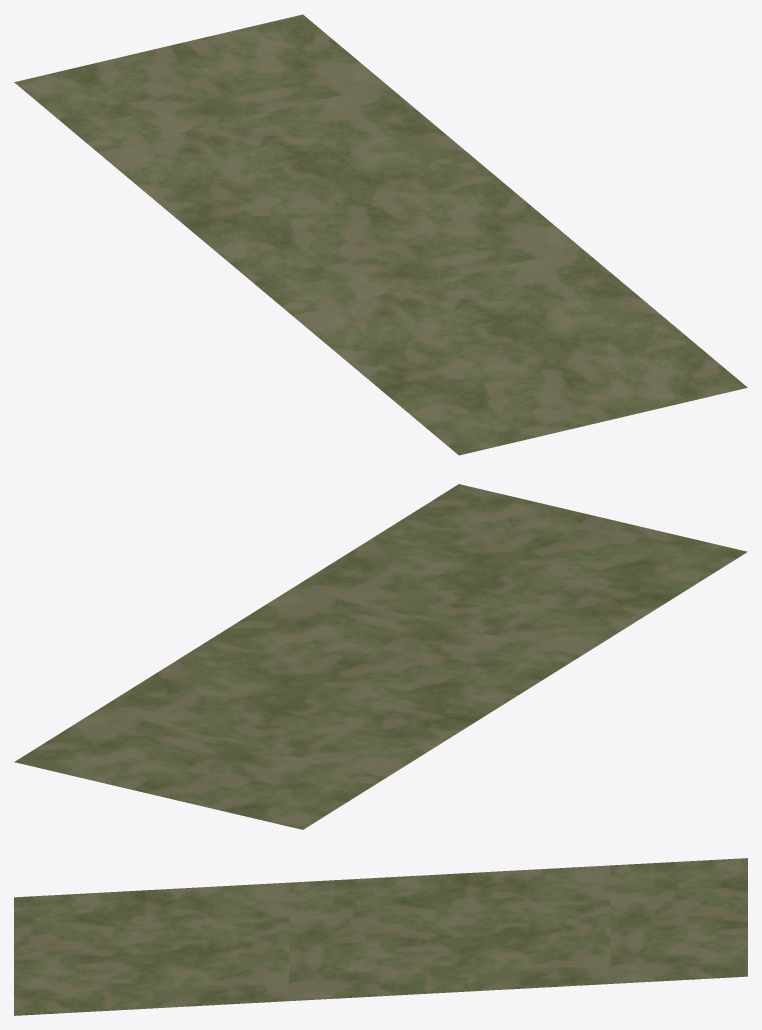
3 views of the same model, one above another, from view 1: azimuth 30°, elevation 25°; view 2: azimuth 150°, elevation 25°; view 3: azimuth 270°, elevation 25° (orthographic). The views are drawn at different scales.
Bounding box in the file's own units: 6 × 0.998 × 16.
1 material, 1 textured.
